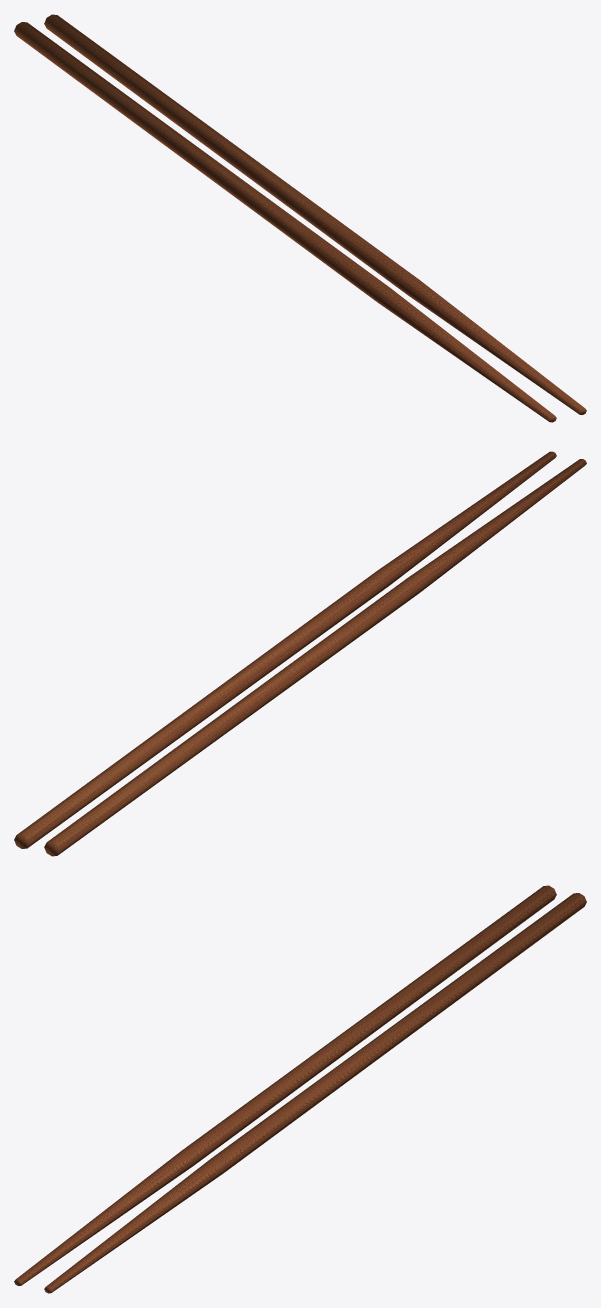
The picture shows the model from 3 angles, top to bottom: view 1: azimuth 30°, elevation 25°; view 2: azimuth 150°, elevation 25°; view 3: azimuth 330°, elevation 25°; orthographic projection.
Visible parts, largest first — view 1: 筷子.001, 筷子.002; view 2: 筷子.002, 筷子.001; view 3: 筷子.002, 筷子.001.
Part boxes in pixels (box(x1,y1,x2,y2)): 筷子.001: box(14, 22, 556, 422); 筷子.002: box(44, 14, 586, 414); 筷子.002: box(14, 451, 556, 848); 筷子.001: box(44, 459, 586, 856); 筷子.002: box(44, 893, 586, 1293); 筷子.001: box(14, 885, 556, 1285).
Bounding box in the file's own units: 0.0153 × 0.00511 × 0.2943.
1 material, 1 textured.
